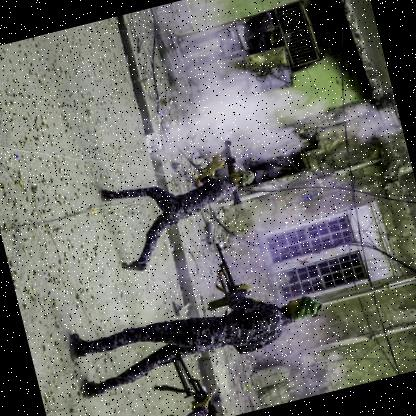rifle: (188, 237, 250, 326), (148, 345, 221, 416), (206, 136, 250, 209)
